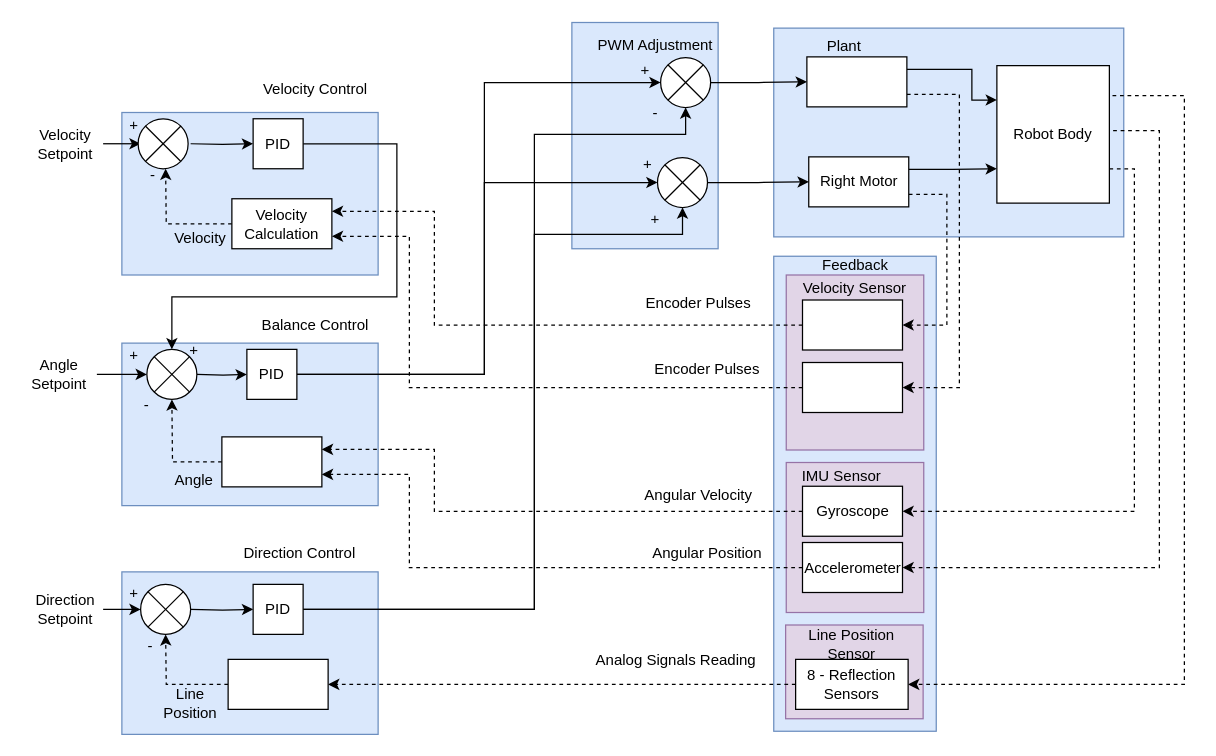
Image size: 1216x756. Some labels were removed from this diagram. Here are the shapes that lost their labels. From the top down, the centre of each, then its label:
At point (856, 81): "Left Motor".
At point (851, 324): "Right Encoder Sensor".
At point (851, 386): "Left Encoder Sensor".
At point (271, 461): "Angle Calculation".
At point (277, 683): "Line Position Calculation".
